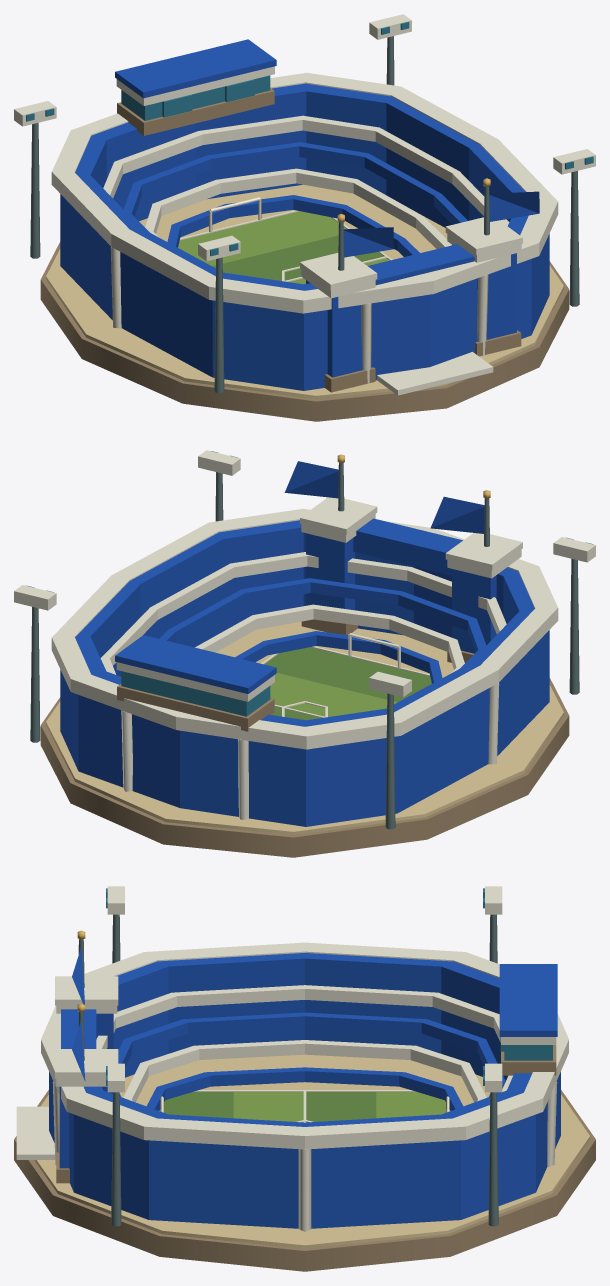
File: main-stadium-lv3.glb
3 renders of one model, top to bottom at view 1: azimuth 30°, elevation 25°; view 2: azimuth 150°, elevation 25°; view 3: azimuth 270°, elevation 25°, orthographic. The views are drawn at different scales.
Parts seen in each view (by area): view 1: stadium_shell_royal, upper_concourse_white, foundation_stoneDark, foundation_sand, seating_white, seating_royal, media_box_roof_royal, entrance_pylons_royal, pitch_grassLight, lighting_iron, entrance_pylons_roof_white, lighting_white (+14 smaller); view 2: stadium_shell_royal, upper_concourse_white, foundation_stoneDark, foundation_sand, seating_white, seating_royal, entrance_pylons_royal, media_box_roof_royal, pitch_grass, lighting_iron, entrance_pylons_roof_white, entrance_bridge_royal (+11 smaller); view 3: stadium_shell_royal, upper_concourse_white, foundation_sand, foundation_stoneDark, seating_white, seating_royal, media_box_roof_royal, pitch_grassLight, pitch_grass, lighting_iron, entrance_pylons_roof_white, facade_ribs_white (+9 smaller).
Boxes of the visible parts, x1,y1,x2,y2 form: stadium_shell_royal: [60, 83, 549, 390]; upper_concourse_white: [51, 72, 558, 313]; foundation_stoneDark: [40, 242, 569, 421]; foundation_sand: [46, 184, 563, 399]; seating_white: [103, 115, 509, 248]; seating_royal: [123, 142, 467, 256]; media_box_roof_royal: [115, 39, 276, 98]; entrance_pylons_royal: [306, 245, 516, 377]; pitch_grassLight: [178, 211, 389, 284]; lighting_iron: [30, 36, 579, 393]; entrance_pylons_roof_white: [300, 217, 522, 290]; lighting_white: [14, 14, 595, 261]; stadium_shell_royal: [60, 520, 549, 826]; upper_concourse_white: [51, 508, 558, 749]; foundation_stoneDark: [40, 678, 569, 857]; foundation_sand: [46, 621, 563, 835]; seating_white: [100, 552, 506, 674]; seating_royal: [159, 578, 486, 683]; entrance_pylons_royal: [306, 533, 496, 653]; media_box_roof_royal: [115, 635, 276, 693]; pitch_grass: [264, 647, 431, 720]; lighting_iron: [30, 472, 579, 829]; entrance_pylons_roof_white: [300, 497, 522, 570]; entrance_bridge_royal: [353, 518, 462, 575]; stadium_shell_royal: [49, 953, 560, 1228]; upper_concourse_white: [41, 942, 568, 1149]; foundation_sand: [34, 1054, 590, 1248]; foundation_stoneDark: [14, 1090, 595, 1271]; seating_white: [96, 985, 512, 1102]; seating_royal: [118, 1012, 505, 1110]; media_box_roof_royal: [499, 964, 557, 1036]; pitch_grassLight: [233, 1092, 445, 1121]; pitch_grass: [164, 1092, 376, 1121]; lighting_iron: [111, 914, 498, 1226]; entrance_pylons_roof_white: [55, 976, 118, 1078]; facade_ribs_white: [52, 1082, 557, 1231].
Size of the model in its own units: 0.9074 by 0.3662 by 1.
